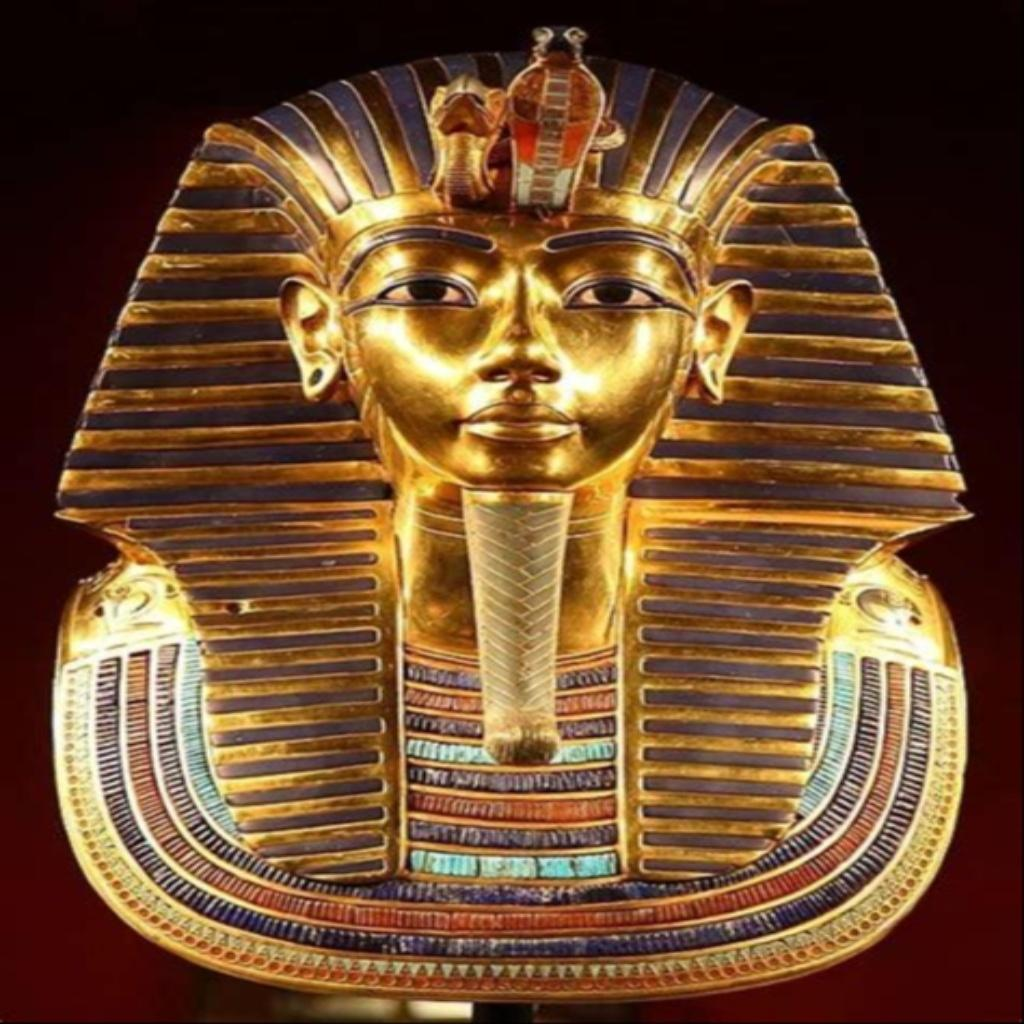Mask of Tutankhamun: (48, 26, 974, 1004)
